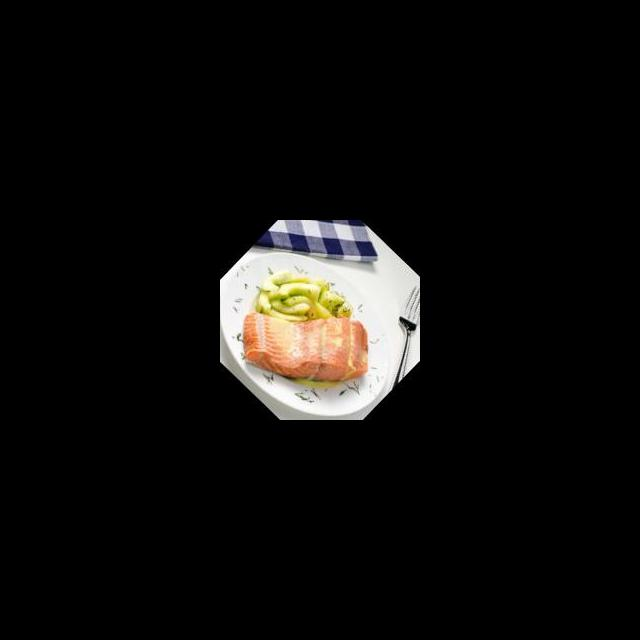ca hoi: (220, 260, 389, 420)
